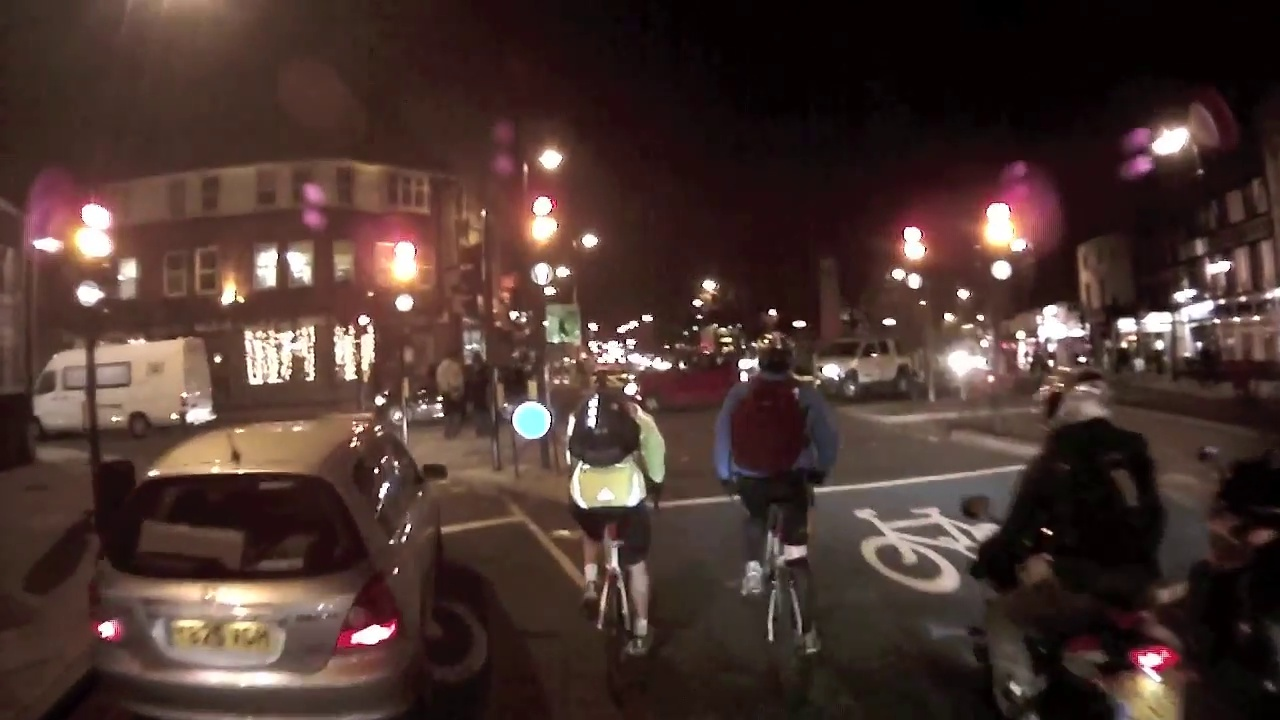cyclist_back: (715, 319, 851, 676), (562, 357, 666, 664)
